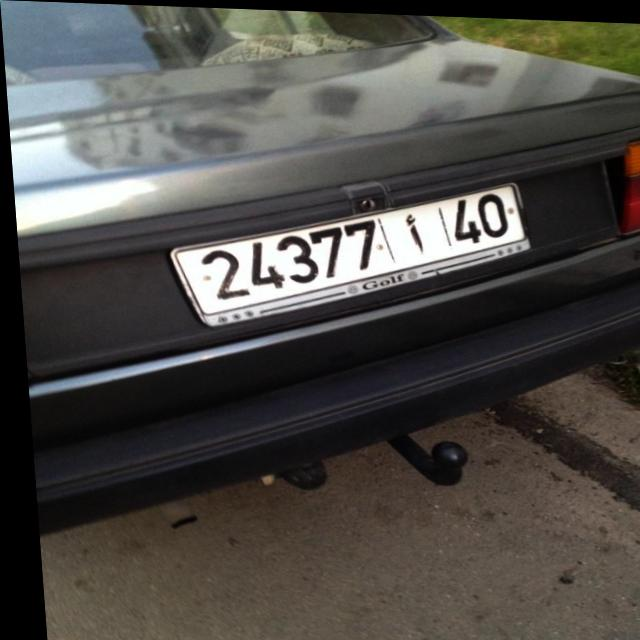License-Plate: (168, 180, 526, 324)
